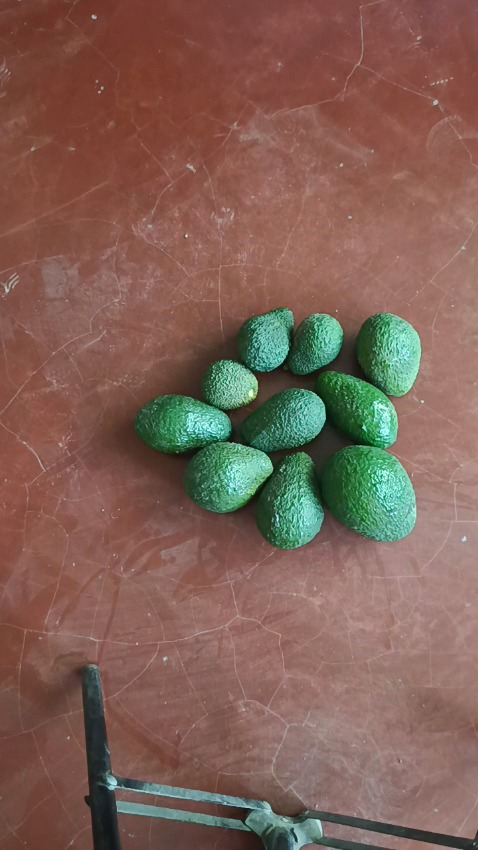Primera: (318, 443, 416, 540)
Segunda: (254, 453, 324, 547), (314, 370, 398, 448), (185, 441, 274, 513), (133, 394, 230, 454), (240, 388, 326, 453)
Tercera: (354, 311, 422, 395), (236, 307, 295, 373), (285, 313, 344, 377), (200, 359, 259, 411)
